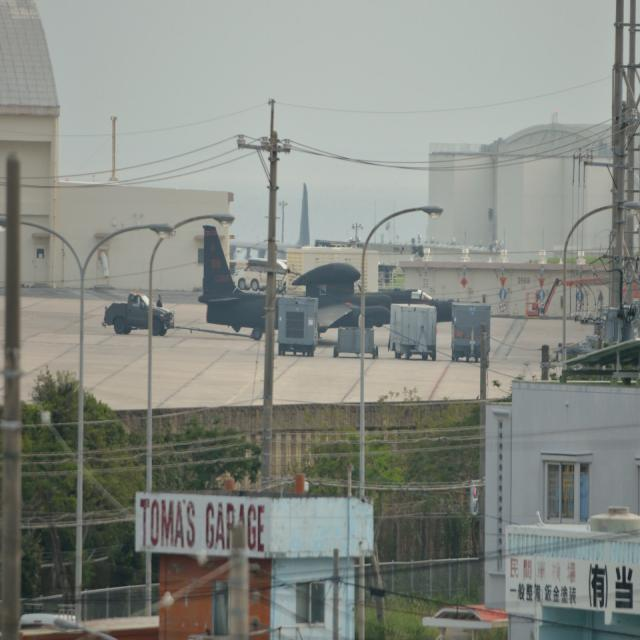MIL_Plane: (187, 224, 471, 341), (228, 179, 310, 258)
